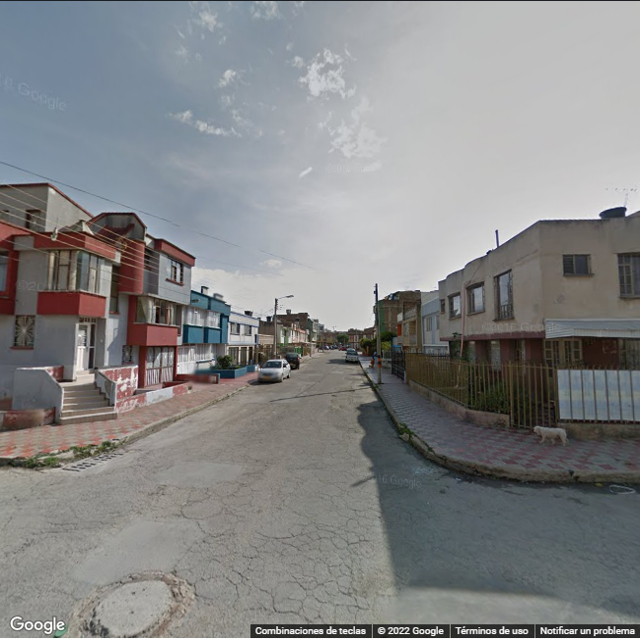D00: (267, 482, 318, 523), (315, 483, 356, 522), (175, 529, 206, 577)
D10: (35, 520, 112, 528)
D20: (248, 521, 373, 621)
